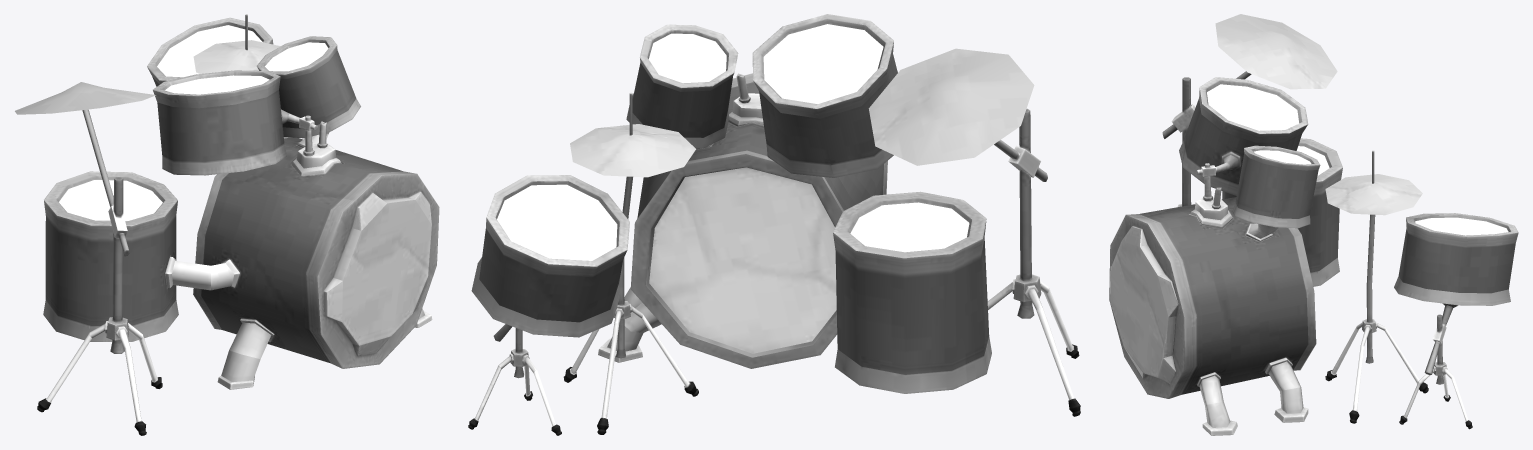
The model's file is obj_drums01_alt.gltf.
3 renders of one model, left to right at view 1: azimuth 30°, elevation 25°; view 2: azimuth 150°, elevation 25°; view 3: azimuth 270°, elevation 25°, orthographic. The views are drawn at different scales.
Visible parts, largest first — view 1: obj_drums01_alt; view 2: obj_drums01_alt; view 3: obj_drums01_alt.
Part boxes in pixels (left/top/right/bottom): obj_drums01_alt: left=15, top=14, right=439, bottom=435; obj_drums01_alt: left=468, top=14, right=1080, bottom=435; obj_drums01_alt: left=1109, top=14, right=1518, bottom=435.
Size of what is drawn, in the model's own units: 2.24 by 1.61 by 2.22.
Materials: 1 (1 with a texture image).
